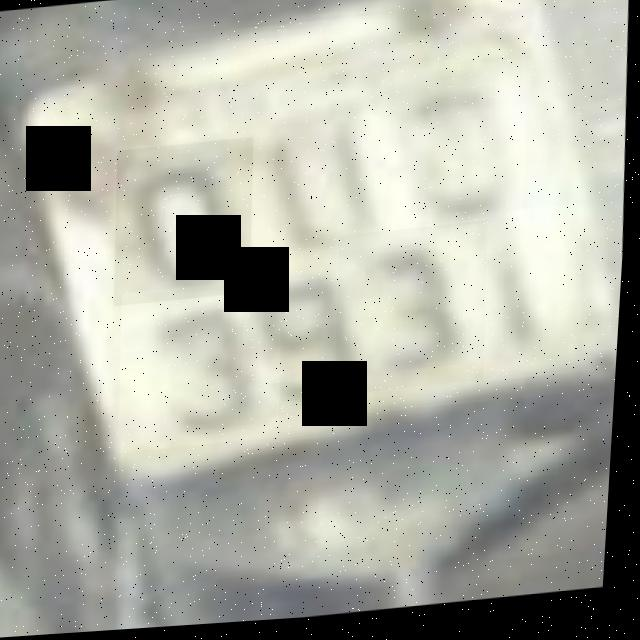1: (447, 211, 592, 383)
3: (118, 281, 291, 455), (335, 227, 495, 400)
9: (238, 253, 384, 425)
O: (388, 64, 534, 236), (112, 139, 260, 308)
U: (239, 100, 398, 277)
